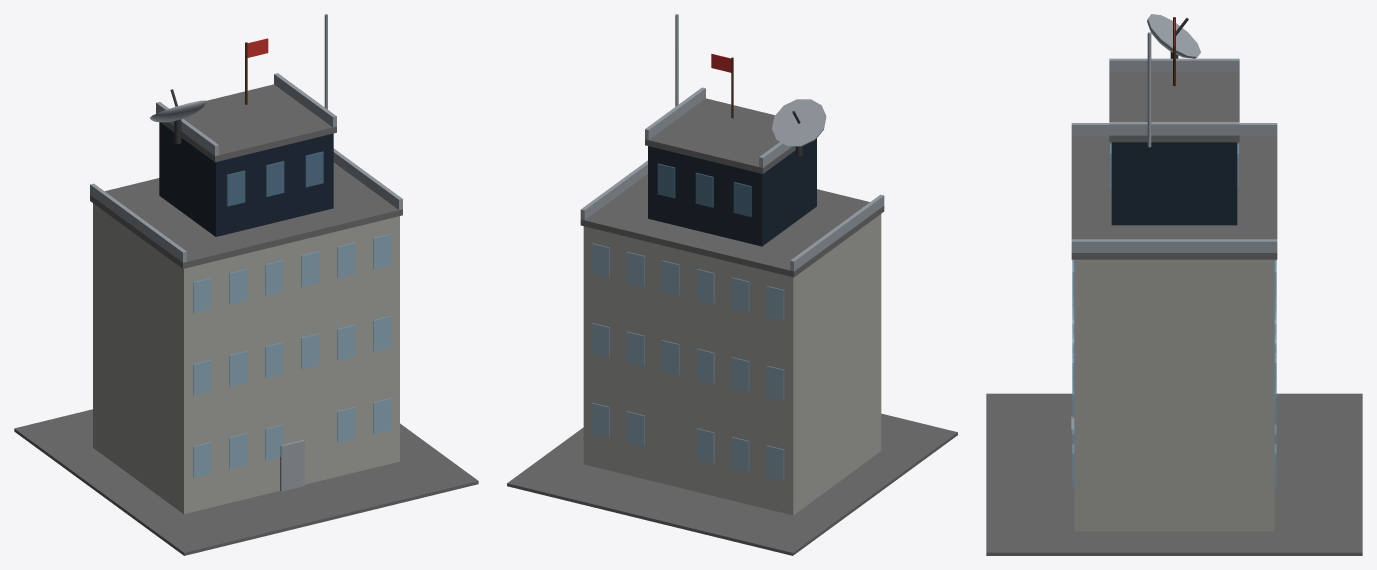
File: bld_special_command_center_a07.glb
The picture shows the model from 3 angles, left to right: view 1: azimuth 30°, elevation 25°; view 2: azimuth 150°, elevation 25°; view 3: azimuth 270°, elevation 25°; orthographic projection. The views are drawn at different scales.
Parts seen in each view (by area): view 1: body, antenna; view 2: body, antenna; view 3: body, antenna.
Part boxes in pixels (bbox=[...]): body: bbox=[14, 14, 478, 555]; antenna: bbox=[150, 89, 205, 144]; body: bbox=[507, 14, 957, 555]; antenna: bbox=[772, 99, 826, 156]; body: bbox=[986, 17, 1362, 555]; antenna: bbox=[1147, 14, 1200, 58].
Size of what is drawn, in the model's own units: 15 by 21.15 by 15.
